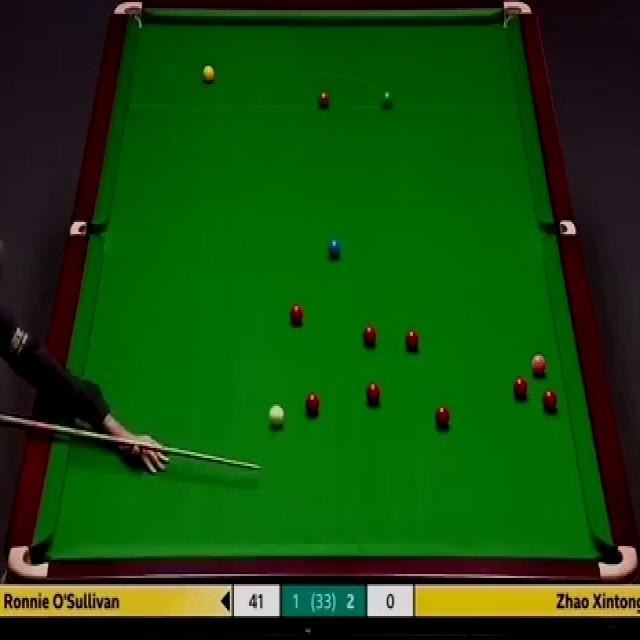pocket: (6, 542, 52, 583), (596, 543, 638, 579), (500, 0, 534, 31), (112, 0, 145, 29), (68, 218, 106, 236), (539, 221, 577, 237)
